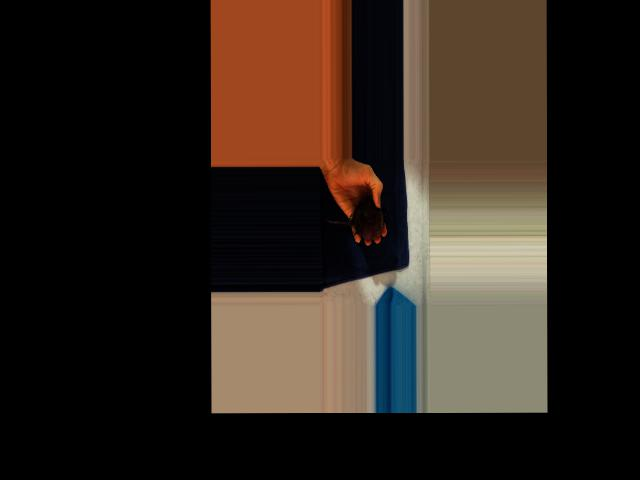beet: (324, 199, 388, 240)
